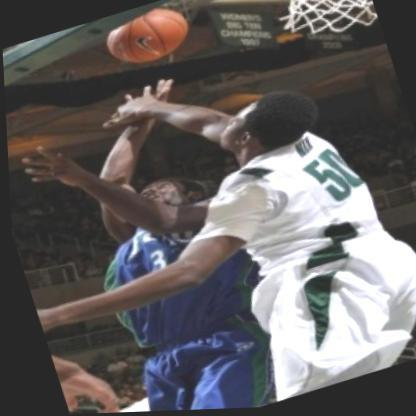basketball: (89, 0, 207, 78)
